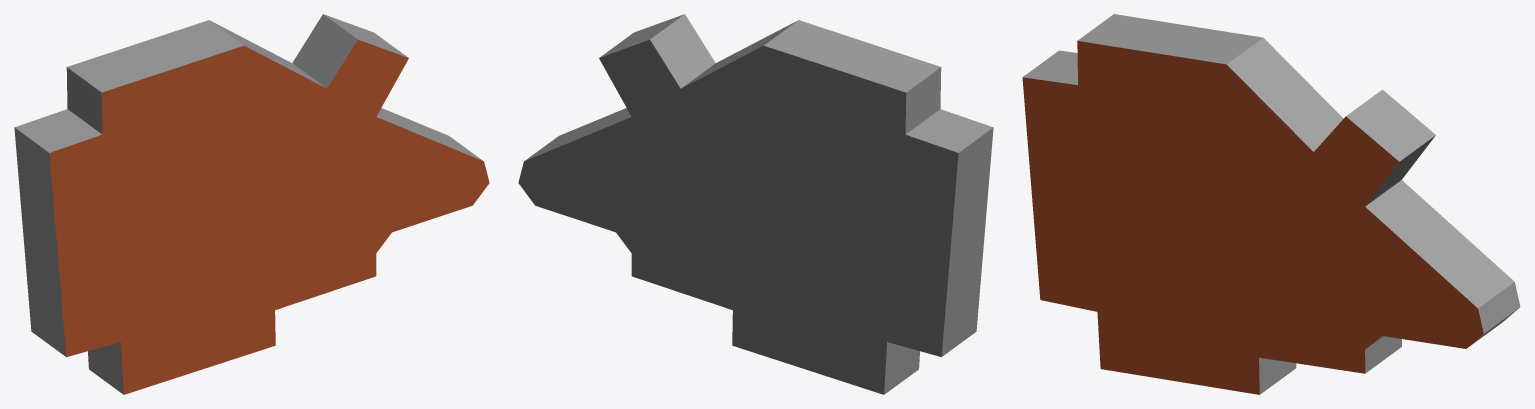
Rendered from construction_5394_assumed_A_Casa_h6m.obj.
The picture shows the model from 3 angles, left to right: view 1: azimuth 30°, elevation 25°; view 2: azimuth 150°, elevation 25°; view 3: azimuth 330°, elevation 25°; orthographic projection. The views are drawn at different scales.
Parts seen in each view (by area): view 1: construction_5394_assumed_A_Casa; view 2: construction_5394_assumed_A_Casa; view 3: construction_5394_assumed_A_Casa.
Part boxes in pixels (x1,y1,x2,y2): construction_5394_assumed_A_Casa: (14, 14, 489, 394); construction_5394_assumed_A_Casa: (518, 14, 993, 394); construction_5394_assumed_A_Casa: (1022, 14, 1520, 394).
Size of the model in its own units: 43.58 by 30.27 by 6.
